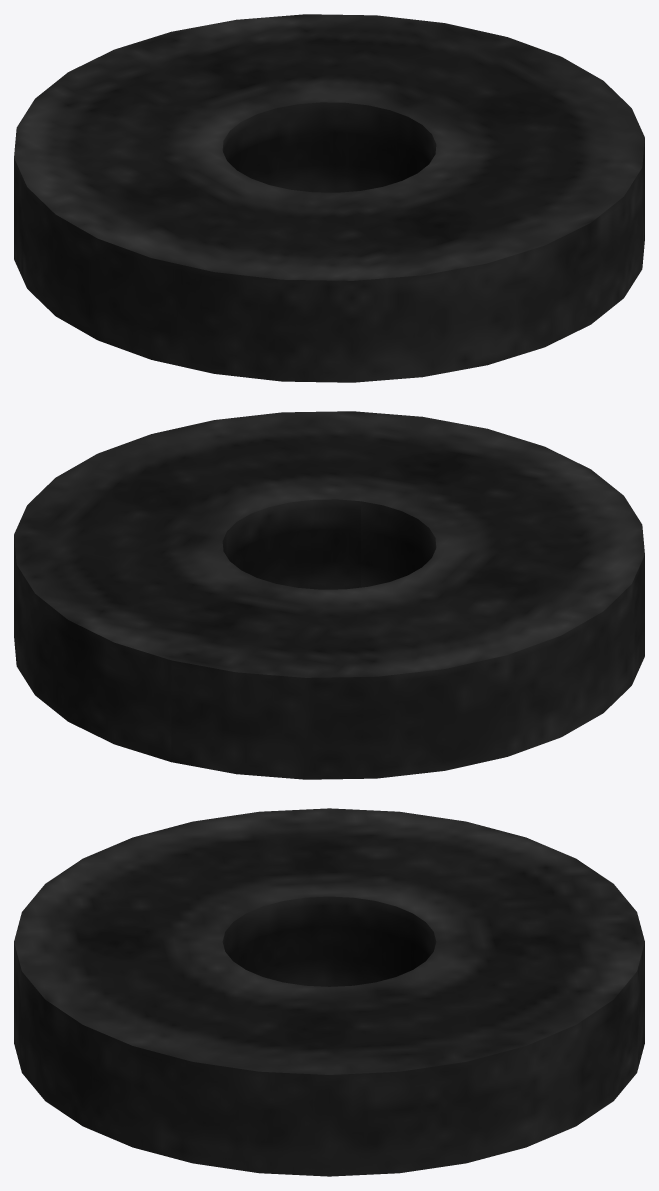
The model's file is MB_Barbell_Drive_01.fbx.
3 renders of one model, top to bottom at view 1: azimuth 30°, elevation 25°; view 2: azimuth 150°, elevation 25°; view 3: azimuth 270°, elevation 25°, orthographic.
Parts seen in each view (by area): view 1: MB_Barbell_Drive_01_LOD0; view 2: MB_Barbell_Drive_01_LOD0; view 3: MB_Barbell_Drive_01_LOD0.
Part boxes in pixels (box(x1,y1,x2,y2)): MB_Barbell_Drive_01_LOD0: box(14, 14, 644, 382); MB_Barbell_Drive_01_LOD0: box(14, 411, 644, 779); MB_Barbell_Drive_01_LOD0: box(14, 808, 644, 1176).
Size of what is drawn, in the model's own units: 21.12 by 3.75 by 21.12.
